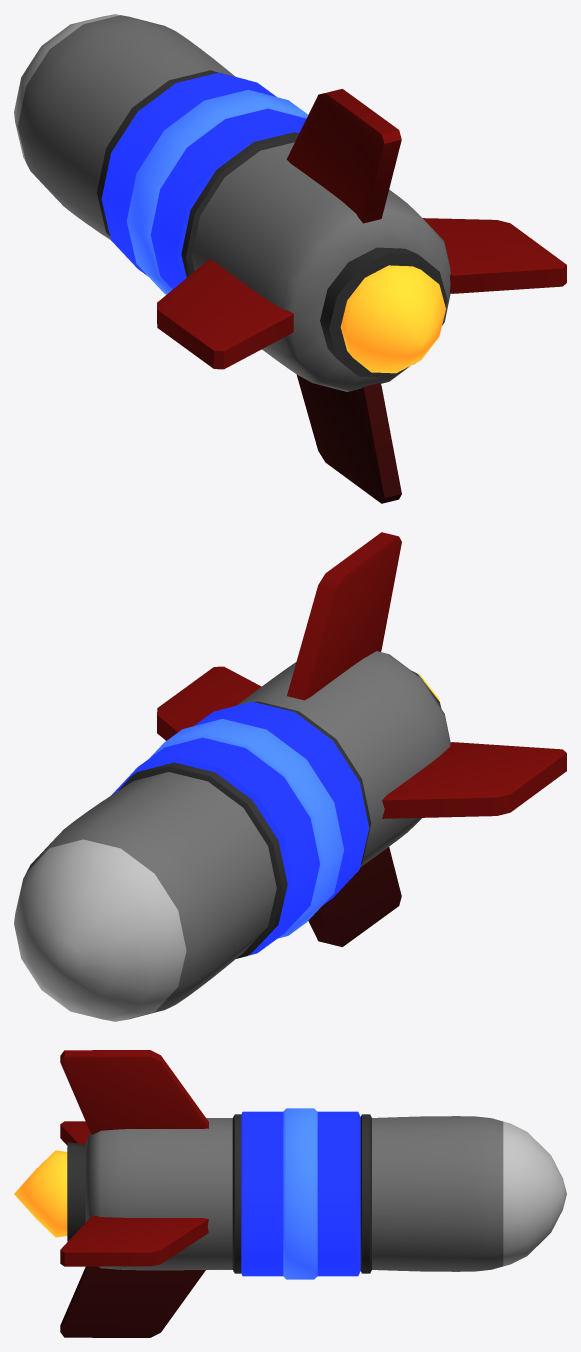
File: shot_hmissile_diag.glb
The picture shows the model from 3 angles, top to bottom: view 1: azimuth 30°, elevation 25°; view 2: azimuth 150°, elevation 25°; view 3: azimuth 270°, elevation 25°; orthographic projection. The views are drawn at different scales.
Visible parts, largest first — view 1: hm_tail0, hm_head0, hm_band, hm_fin.001, hm_fin.002, hm_flame, hm_fin.003, hm_fin, hm_band_bright, hm_nozzle, hm_band_seam, hm_band_seam2 (+1 smaller); view 2: hm_head1, hm_head0, hm_band, hm_tail0, hm_fin.001, hm_fin.002, hm_band_bright, hm_fin.003, hm_fin, hm_band_seam2, hm_band_seam; view 3: hm_head0, hm_tail0, hm_band, hm_fin.001, hm_fin.003, hm_head1, hm_band_bright, hm_fin, hm_flame, hm_band_seam2, hm_nozzle, hm_band_seam (+1 smaller).
Part boxes in pixels (box(x1,y1,x2,y2)): hm_tail0: box(191, 142, 450, 391); hm_head0: box(17, 15, 234, 239); hm_band: box(101, 72, 306, 289); hm_fin.001: box(286, 89, 401, 223); hm_fin.002: box(157, 259, 293, 369); hm_flame: box(340, 265, 445, 373); hm_fin.003: box(296, 374, 401, 503); hm_fin: box(423, 218, 566, 293); hm_band_bright: box(126, 89, 308, 294); hm_nozzle: box(320, 247, 447, 377); hm_band_seam: box(181, 132, 298, 277); hm_band_seam2: box(97, 70, 245, 236); hm_head1: box(14, 839, 186, 1021); hm_head0: box(26, 772, 276, 1020); hm_band: box(111, 701, 369, 955); hm_tail0: box(237, 651, 450, 866); hm_fin.001: box(287, 532, 401, 700); hm_fin.002: box(382, 742, 566, 818); hm_band_bright: box(150, 719, 343, 938); hm_fin.003: box(308, 847, 401, 946); hm_fin: box(157, 666, 261, 740); hm_band_seam2: box(118, 762, 287, 958); hm_band_seam: box(254, 701, 371, 864); hm_head0: box(372, 1116, 503, 1271); hm_tail0: box(85, 1118, 232, 1270); hm_band: box(241, 1111, 360, 1276); hm_fin.001: box(60, 1050, 208, 1134); hm_fin.003: box(60, 1266, 205, 1337); hm_head1: box(503, 1121, 566, 1266); hm_band_bright: box(283, 1108, 317, 1279); hm_fin: box(60, 1216, 208, 1266); hm_flame: box(14, 1150, 67, 1237); hm_band_seam2: box(360, 1114, 371, 1273); hm_nozzle: box(67, 1142, 85, 1241); hm_band_seam: box(232, 1114, 241, 1273).
Size of the model in its own units: 7.8 by 7.8 by 13.9.
